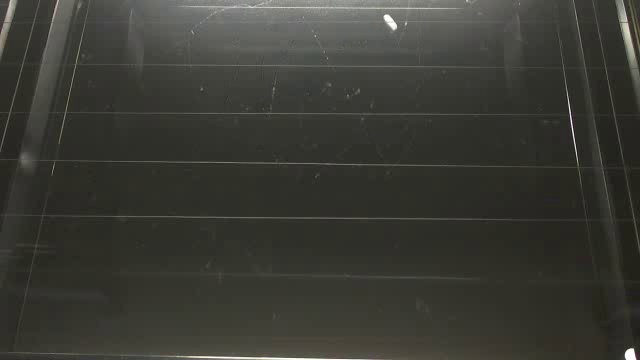Alfa: (381, 10, 401, 33)
